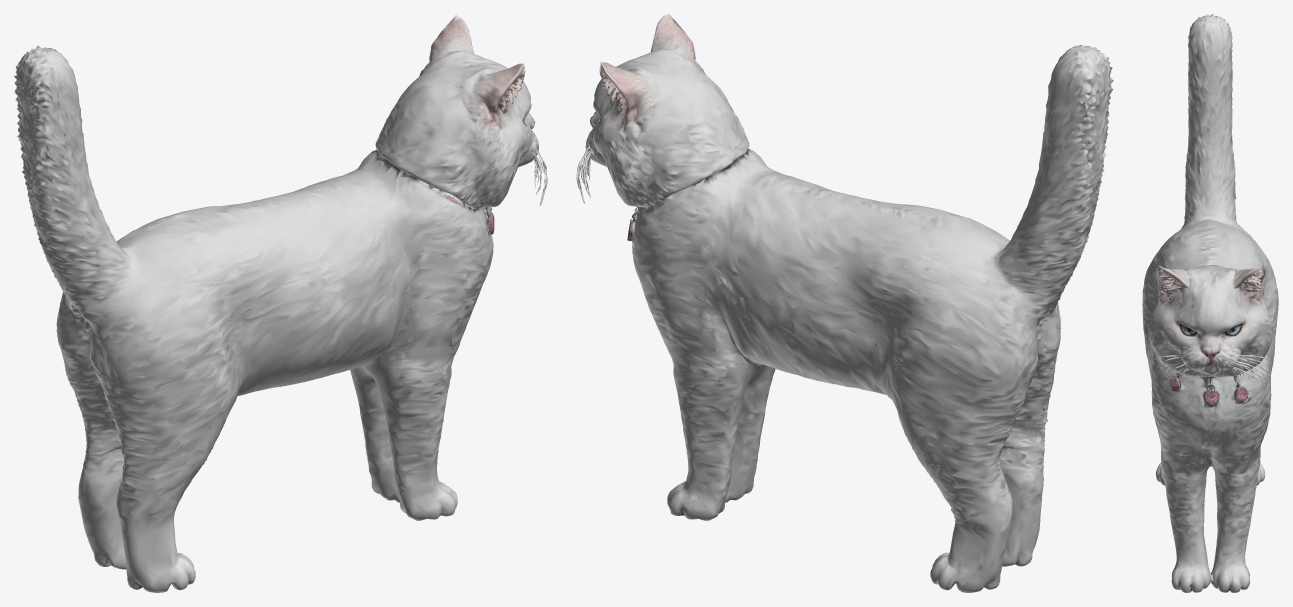
Rendered from SALADCAT.glb.
3 views of the same model, side by side, from view 1: azimuth 30°, elevation 25°; view 2: azimuth 150°, elevation 25°; view 3: azimuth 270°, elevation 25° (orthographic). The views are drawn at different scales.
Visible parts, largest first — view 1: tripo_node_549d4854-9350-4fdc-b011-951c651a1bee; view 2: tripo_node_549d4854-9350-4fdc-b011-951c651a1bee; view 3: tripo_node_549d4854-9350-4fdc-b011-951c651a1bee.
Part boxes in pixels (box(x1,y1,x2,y2)): tripo_node_549d4854-9350-4fdc-b011-951c651a1bee: box(14, 14, 547, 592); tripo_node_549d4854-9350-4fdc-b011-951c651a1bee: box(576, 14, 1113, 592); tripo_node_549d4854-9350-4fdc-b011-951c651a1bee: box(1142, 14, 1278, 592).
Bounding box in the file's own units: 0.9789 × 1 × 0.2884.
1 material, 1 textured.
